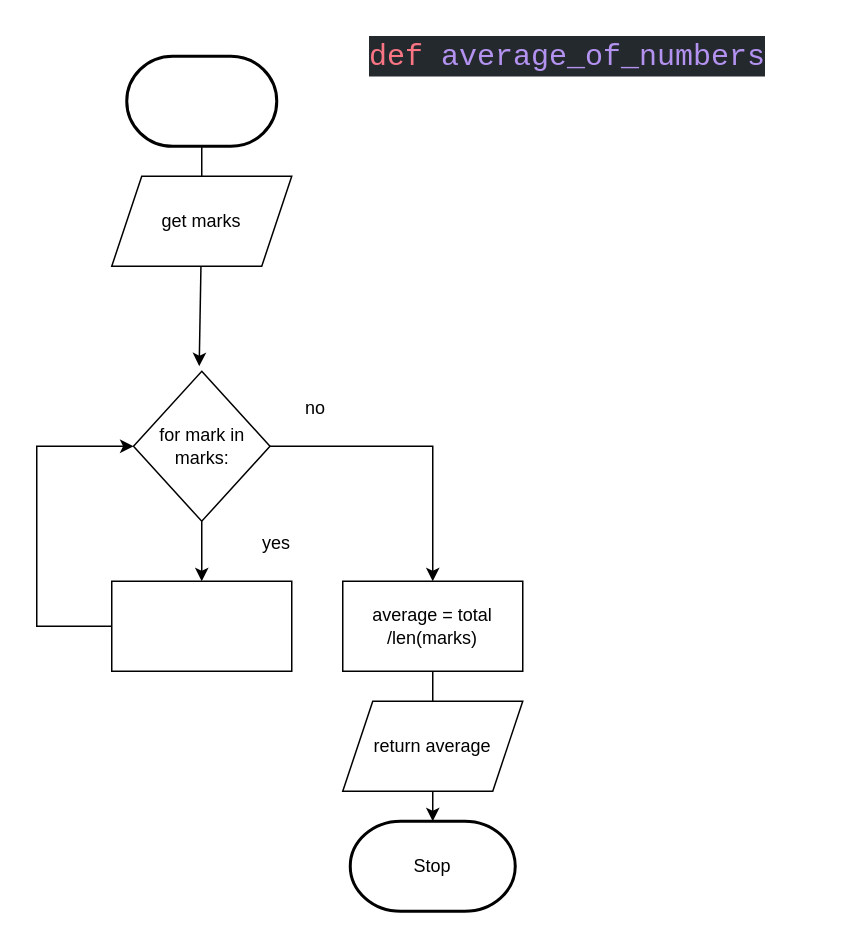
The diagram is 858 pixels wide and 938 high, and some of its shapes have lost their labels. The shapes that lost their labels are listed below. From the top down, each one's centre as x and y in pixels, then its label:
At [201,100]: "Start".
At [201,625]: "total += mark".
